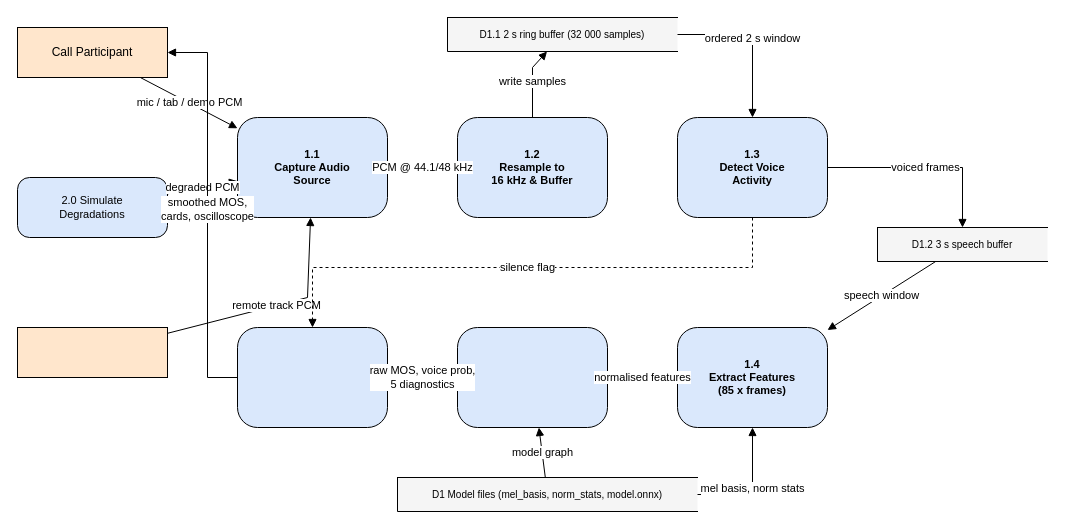
Image size: 1065x529. Some labels were removed from this diagram. The centre of each missing label's shape, as x and y in pixels:
1.5 Run ONNX Inference: the point at 532,377
1.6 Smooth & Display Results: the point at 312,377
Remote Peer: the point at 92,352
